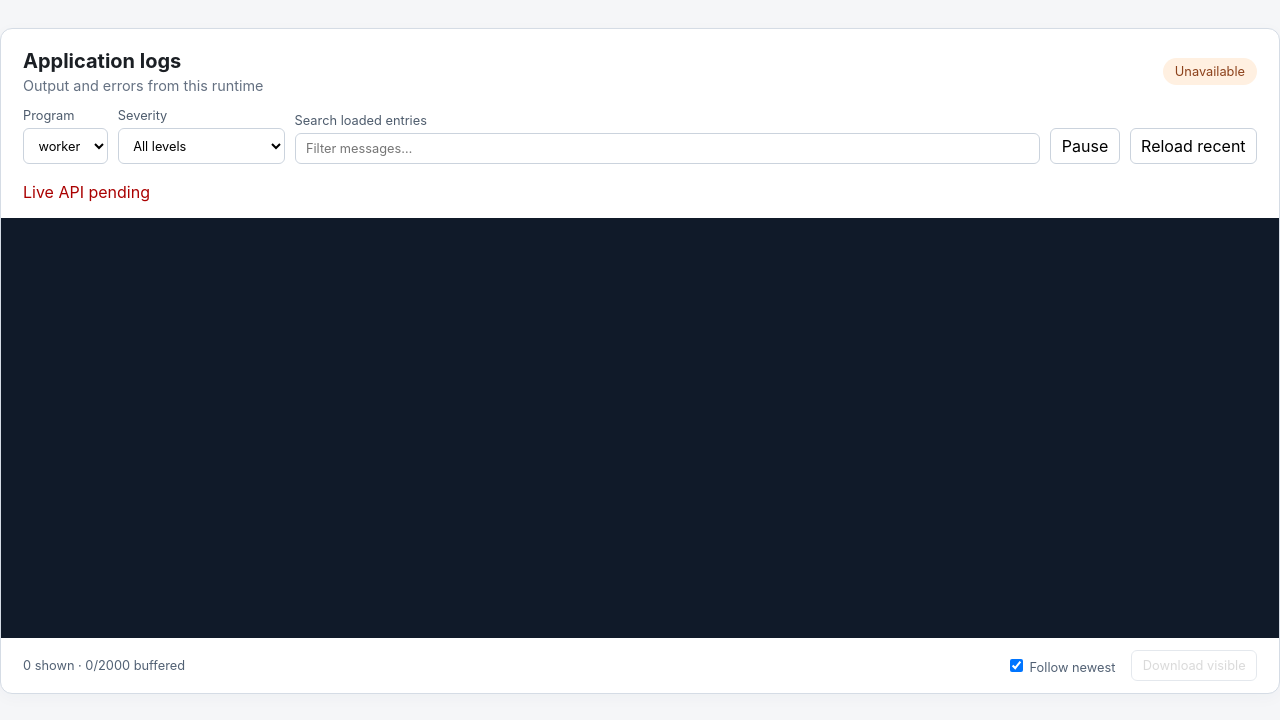
Test: log viewer › shows unavailable API and permits explicit reload
Expected: the message reads "Live API pending", [23,182,150,202]
Click the button "Reload recent" at (1193, 146), box [1130,128,1257,164]
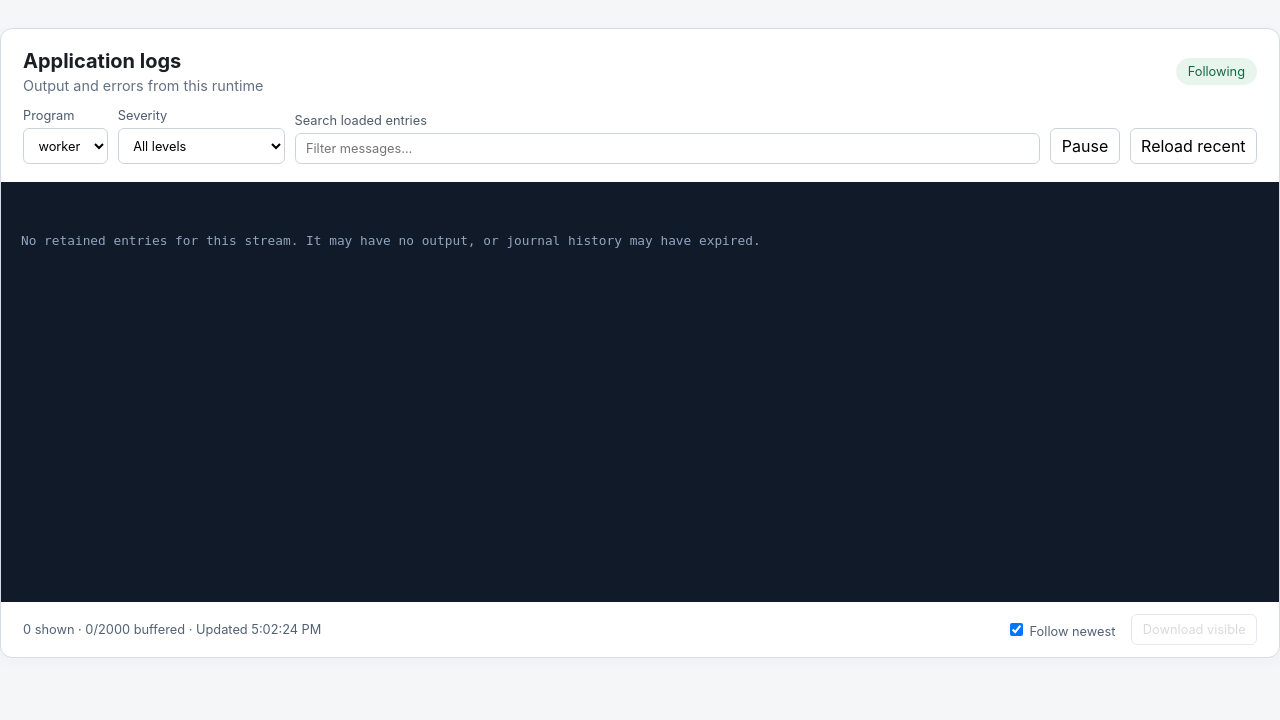
Result: the text "No retained entries for this stream. It may have no output, or journal history may have expired." is shown at [21,233,761,248]
Result: the message "Live API pending" is gone
